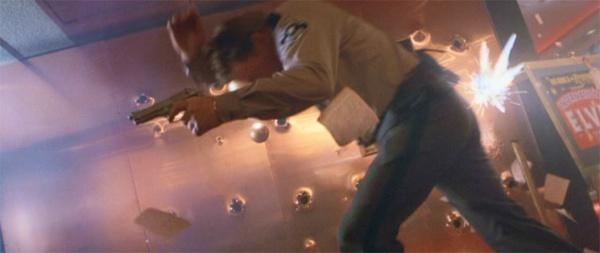Gun: (127, 87, 200, 123)
